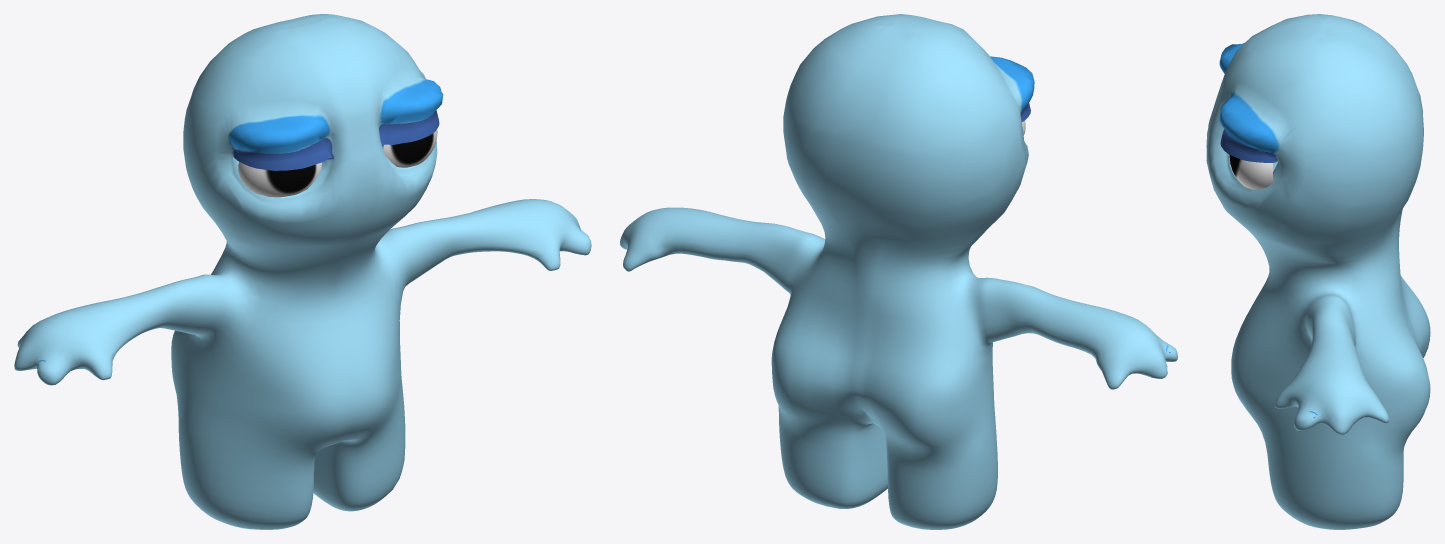
Rendered from drif.glb.
The picture shows the model from 3 angles, left to right: view 1: azimuth 30°, elevation 25°; view 2: azimuth 150°, elevation 25°; view 3: azimuth 270°, elevation 25°; orthographic projection. The views are drawn at different scales.
Parts seen in each view (by area): view 1: retopo, ojo.r, ojo.l; view 2: retopo; view 3: retopo, ojo.l.
Boxes of the visible parts, x1,y1,x2,y2 form: retopo: (14,14,591,529); ojo.r: (238,162,321,197); ojo.l: (383,129,437,167); retopo: (620,14,1177,529); retopo: (1206,14,1430,529); ojo.l: (1229,155,1273,189).
Size of the model in its own units: 5.02 by 4.13 by 1.79.
Materials: 2 (2 with a texture image).
